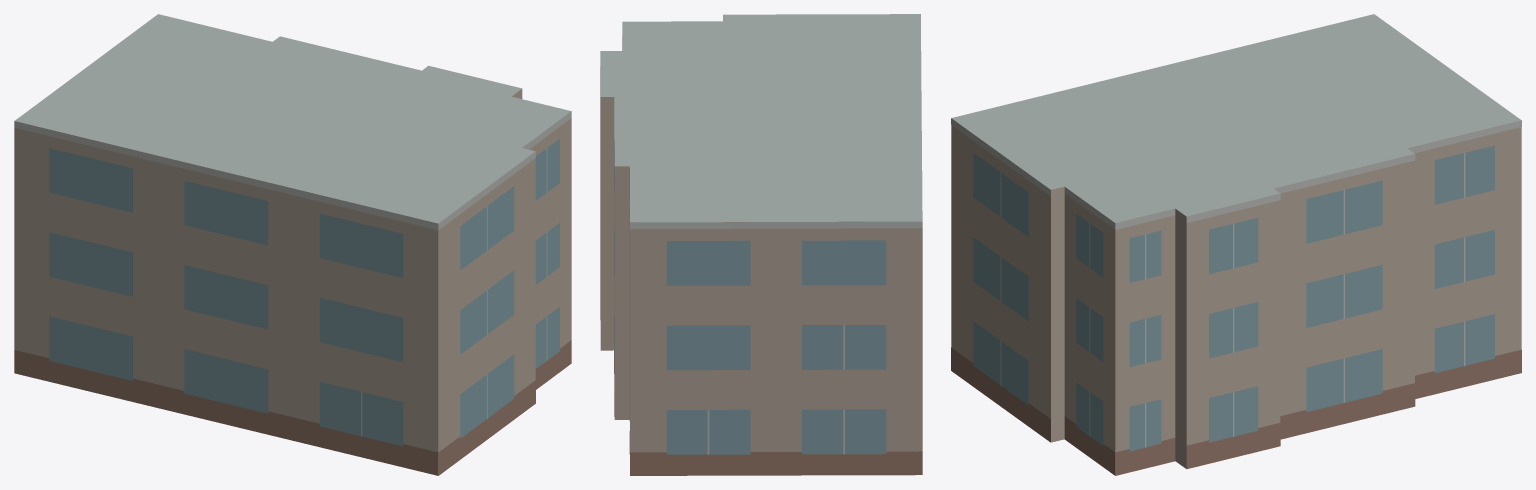
Rendered from survey-upis-32805584.glb.
The picture shows the model from 3 angles, left to right: view 1: azimuth 30°, elevation 25°; view 2: azimuth 150°, elevation 25°; view 3: azimuth 270°, elevation 25°; orthographic projection.
Visible parts, largest first — view 1: survey-upis-32805584.tmp; view 2: survey-upis-32805584.tmp; view 3: survey-upis-32805584.tmp.
Boxes of the visible parts, <box> form: survey-upis-32805584.tmp: <box>14,14,571,475</box>; survey-upis-32805584.tmp: <box>600,14,922,475</box>; survey-upis-32805584.tmp: <box>951,14,1521,475</box>.
Size of the model in its own units: 16.34 by 9.2 by 18.84.
